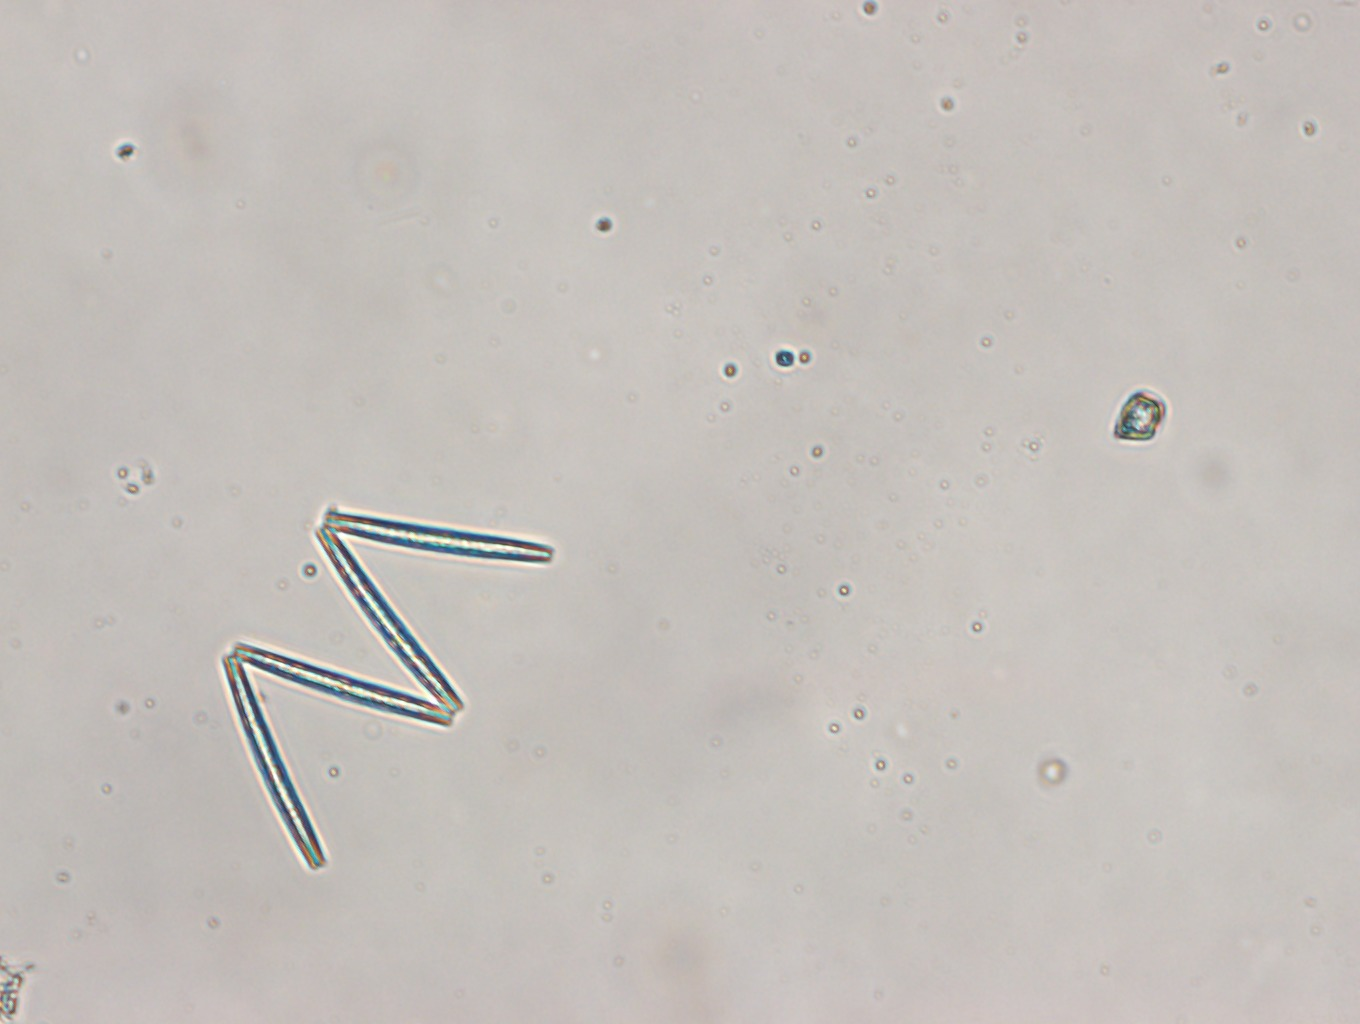thalassionema nitzschioides: (220, 510, 553, 873)
